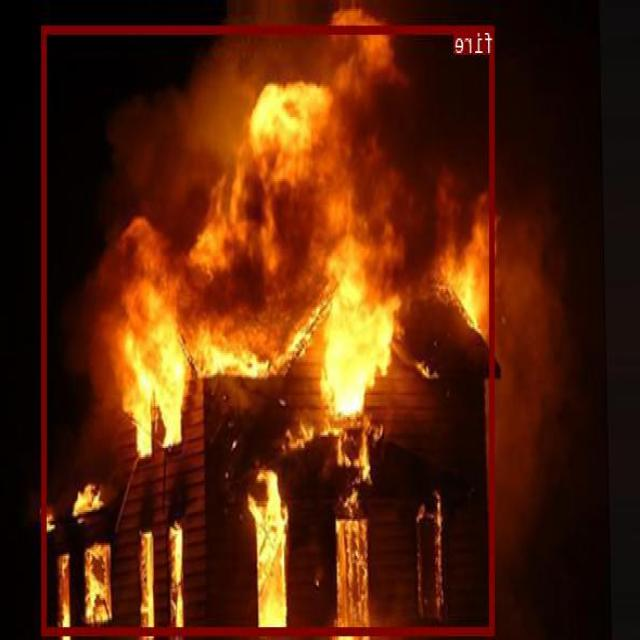fire: (42, 24, 496, 634)
